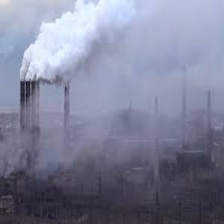smoke: (19, 1, 130, 81)
